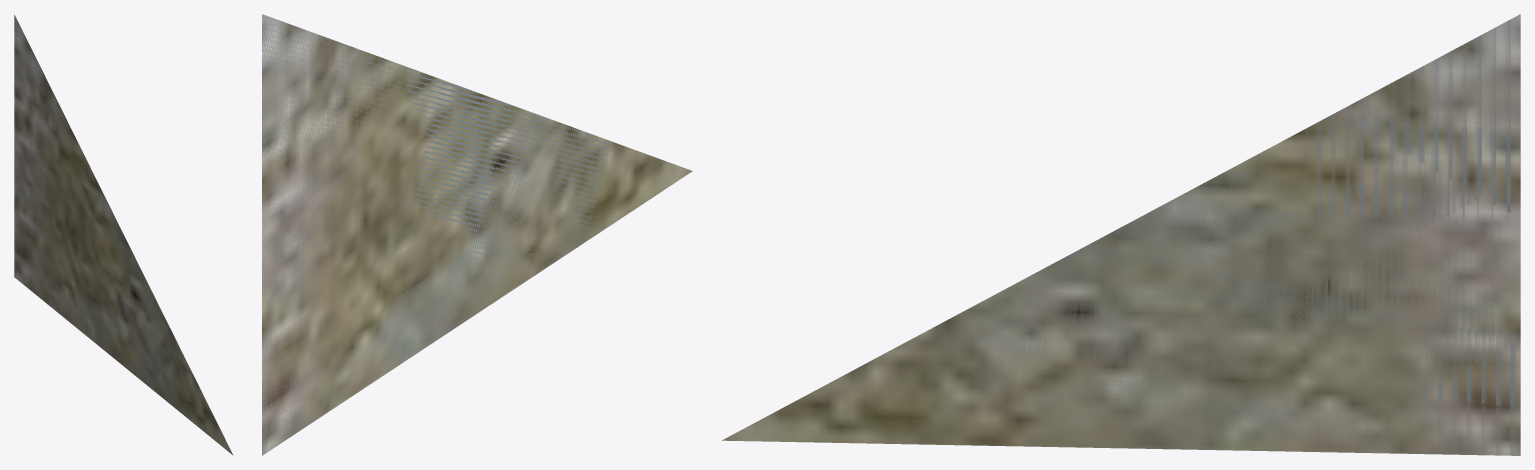
The model's file is 西庸城堡85.dae.
The picture shows the model from 3 angles, left to right: view 1: azimuth 30°, elevation 25°; view 2: azimuth 150°, elevation 25°; view 3: azimuth 270°, elevation 25°; orthographic projection. The views are drawn at different scales.
Visible parts, largest first — view 1: SketchUp; view 2: SketchUp; view 3: SketchUp.
Boxes of the visible parts, left/top/right/bottom form: SketchUp: left=14, top=14, right=233, bottom=455; SketchUp: left=262, top=14, right=692, bottom=455; SketchUp: left=722, top=14, right=1520, bottom=455.
Bounding box in the file's own units: 3.76 × 83.24 × 50.79.
